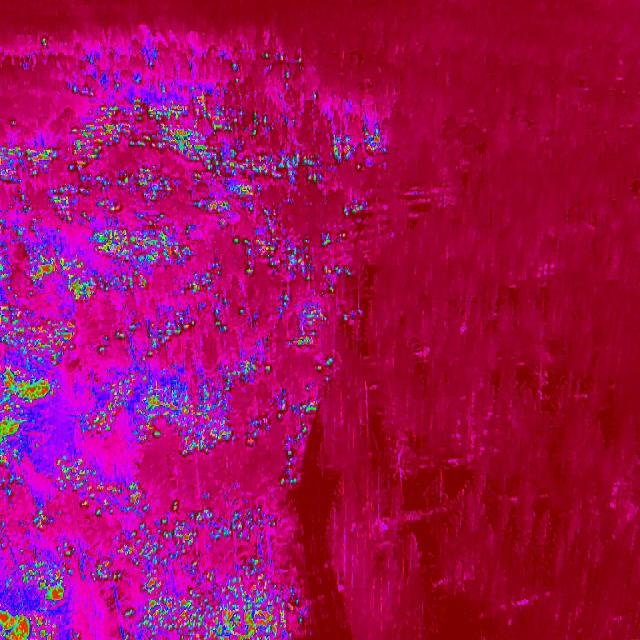fire: (65, 95, 392, 216), (60, 464, 216, 584), (90, 367, 268, 458), (115, 569, 318, 640), (0, 311, 78, 451), (4, 193, 97, 309), (129, 272, 236, 360), (207, 493, 283, 576), (86, 224, 199, 274), (0, 567, 74, 640), (270, 384, 320, 492), (2, 134, 58, 187), (256, 44, 318, 88), (315, 257, 362, 305), (232, 230, 286, 271), (290, 300, 331, 349), (311, 354, 342, 382), (31, 28, 58, 52), (32, 510, 52, 538)
